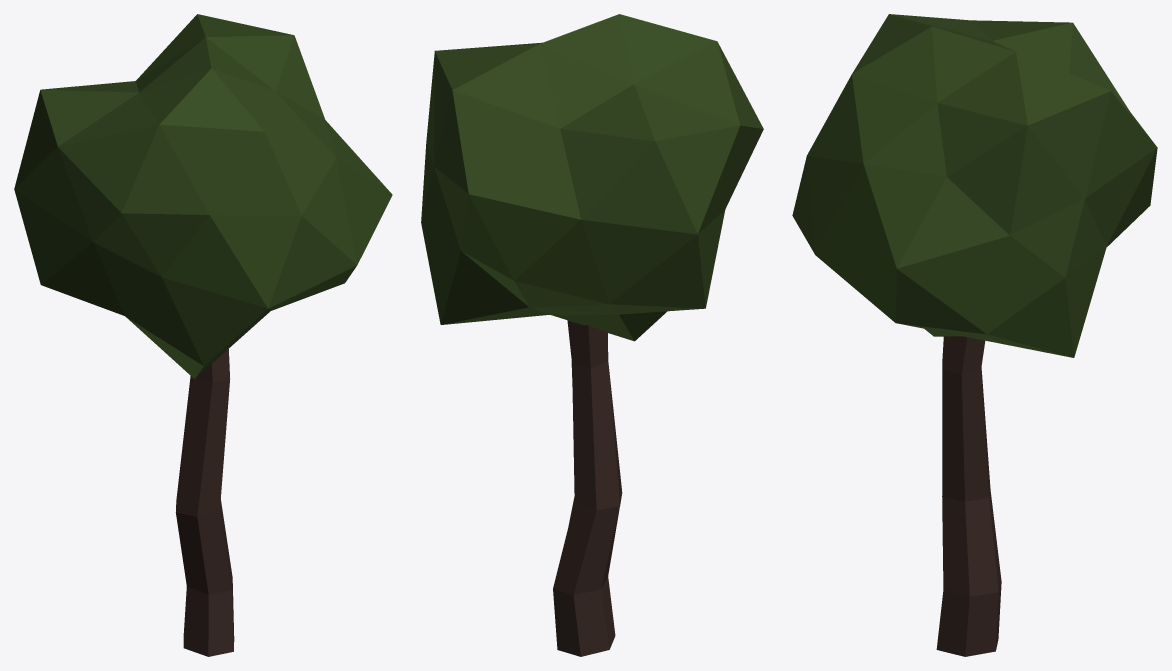
The model's file is 3DMODELS_Enviro_ForestLevel_ShortTree.fbx.
The picture shows the model from 3 angles, left to right: view 1: azimuth 30°, elevation 25°; view 2: azimuth 150°, elevation 25°; view 3: azimuth 270°, elevation 25°; orthographic projection. The views are drawn at different scales.
Visible parts, largest first — view 1: pPlatonic2; view 2: pPlatonic2; view 3: pPlatonic2.
Boxes of the visible parts, bbox=[...] form: pPlatonic2: bbox=[14, 14, 392, 656]; pPlatonic2: bbox=[421, 14, 763, 656]; pPlatonic2: bbox=[792, 14, 1157, 656].
Bounding box in the file's own units: 8.7 × 16.35 × 8.86.
